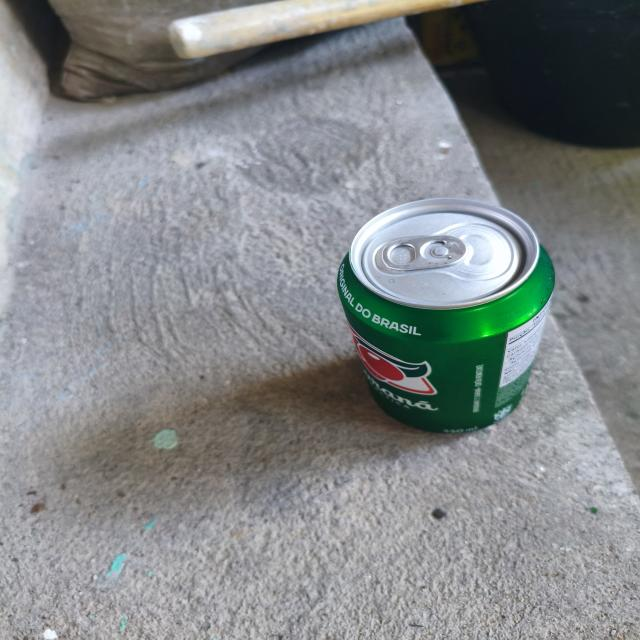Guarana: (330, 188, 580, 448)
